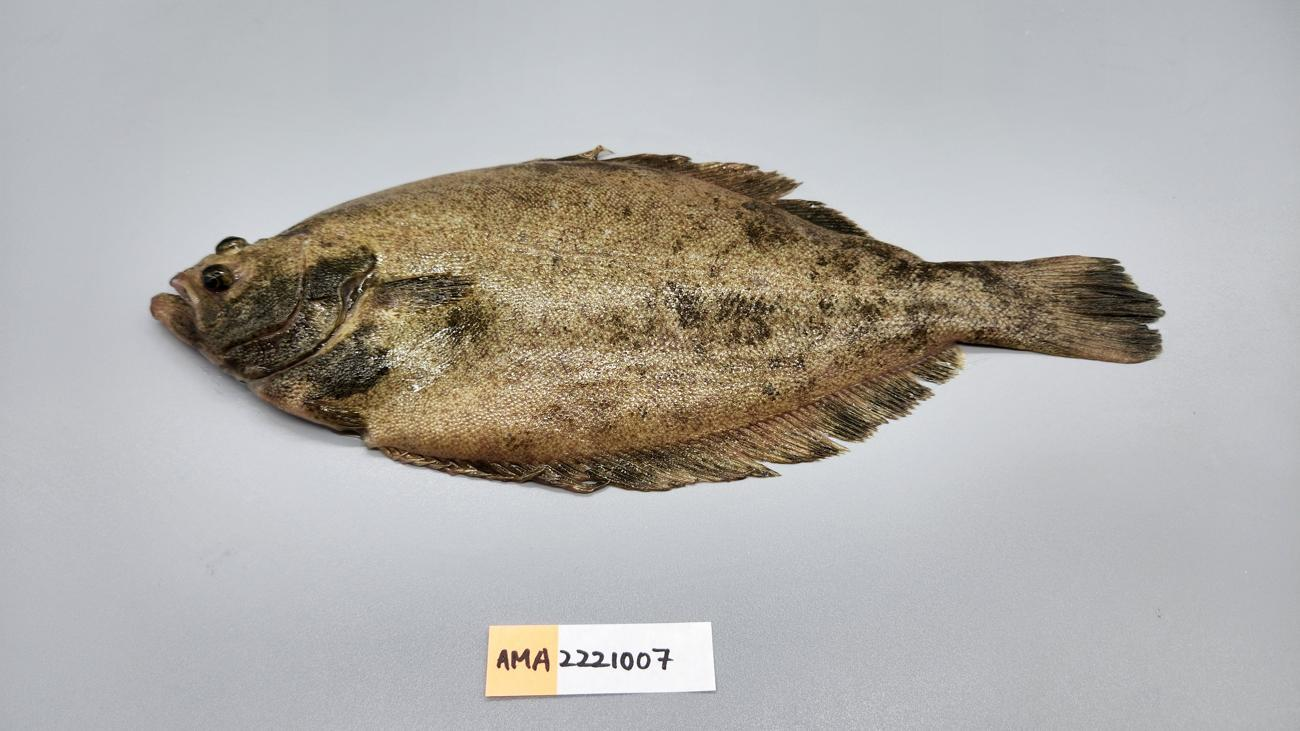MAOUY: (144, 145, 1166, 482)
